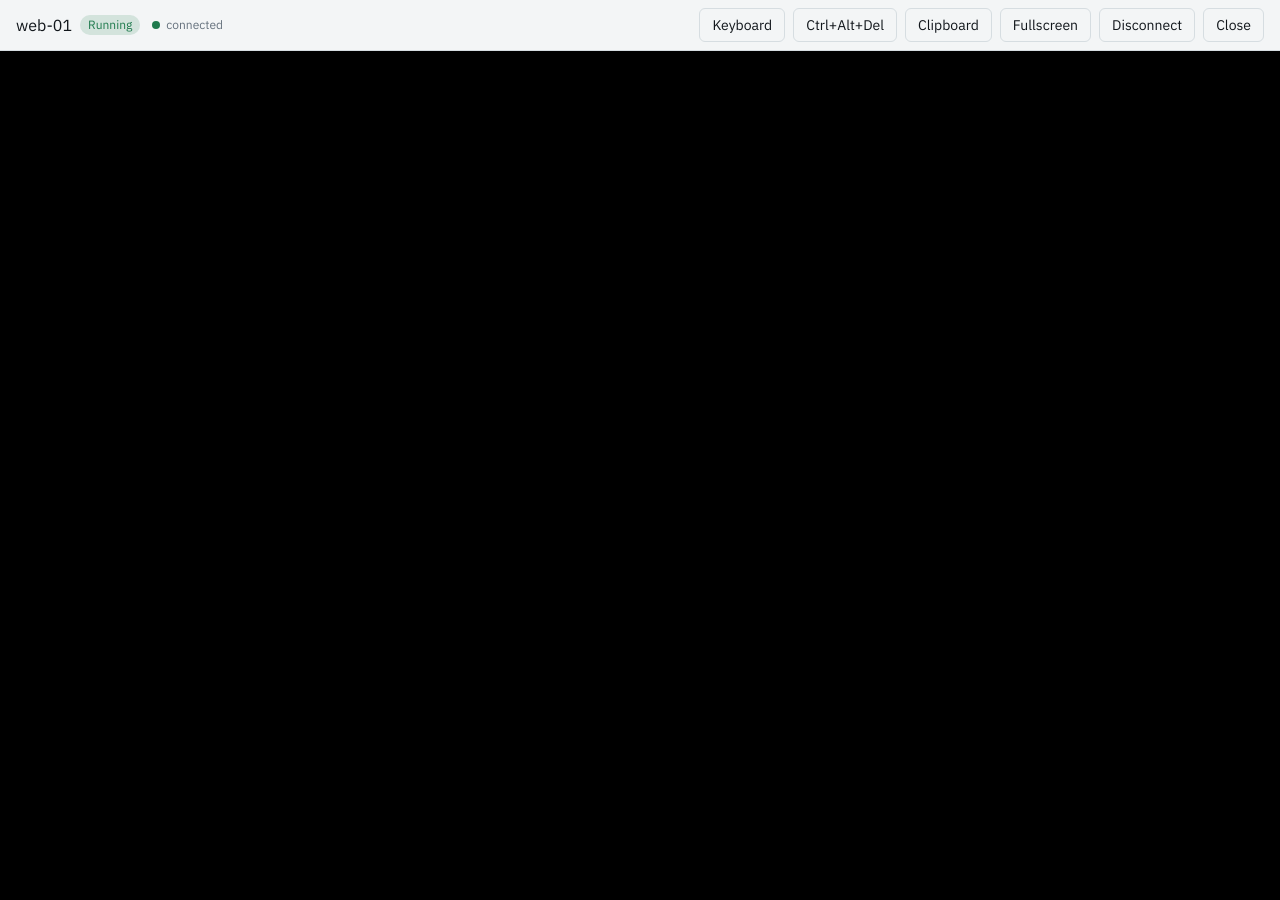
it: console clipboard › falls back to selecting the text when the clipboard is refused
The image size is (1280, 900).
Click the button "Clipboard".
click(948, 25)  # box [905,8,992,42]
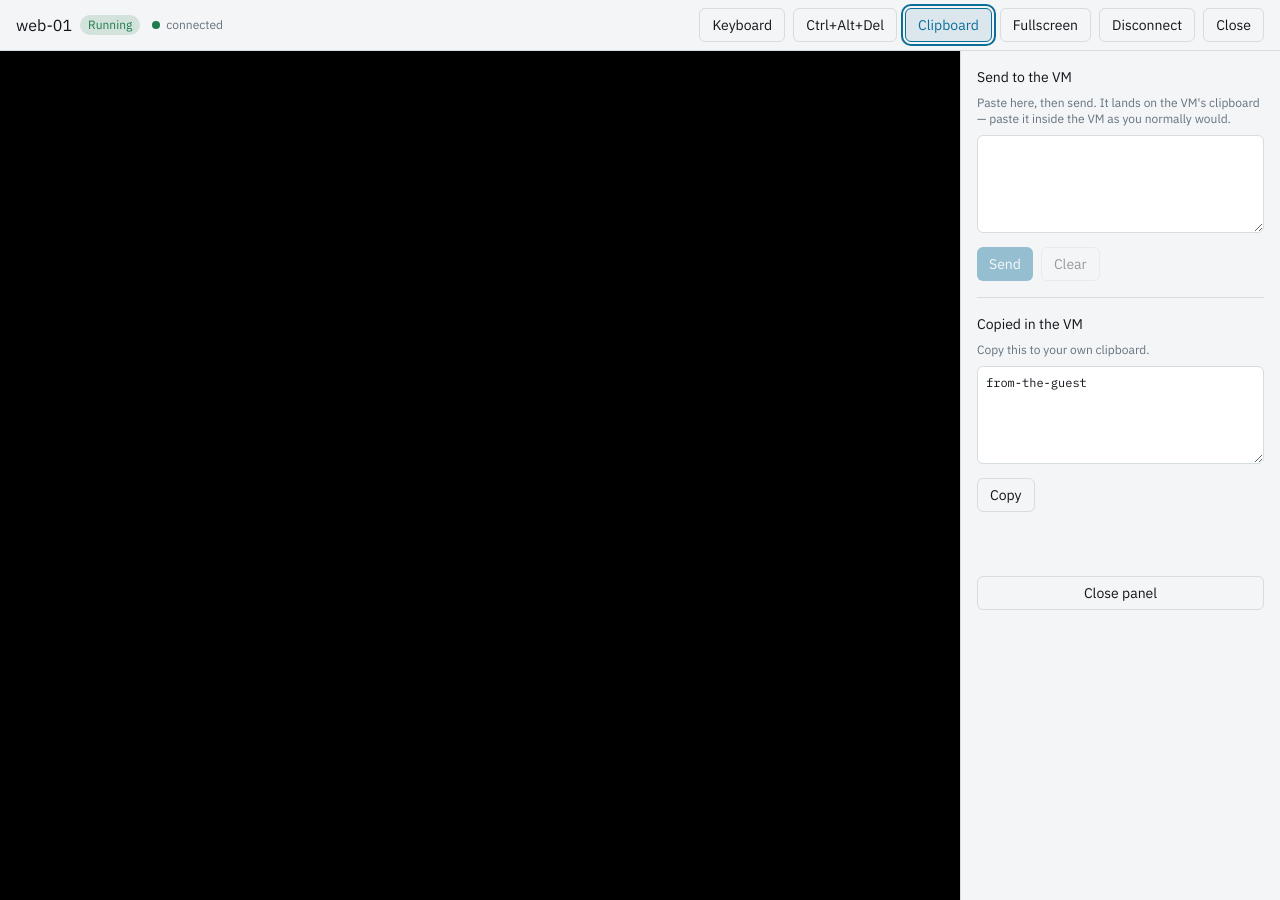
Click the button "Copy".
click(1006, 495)  # box [977,478,1035,512]
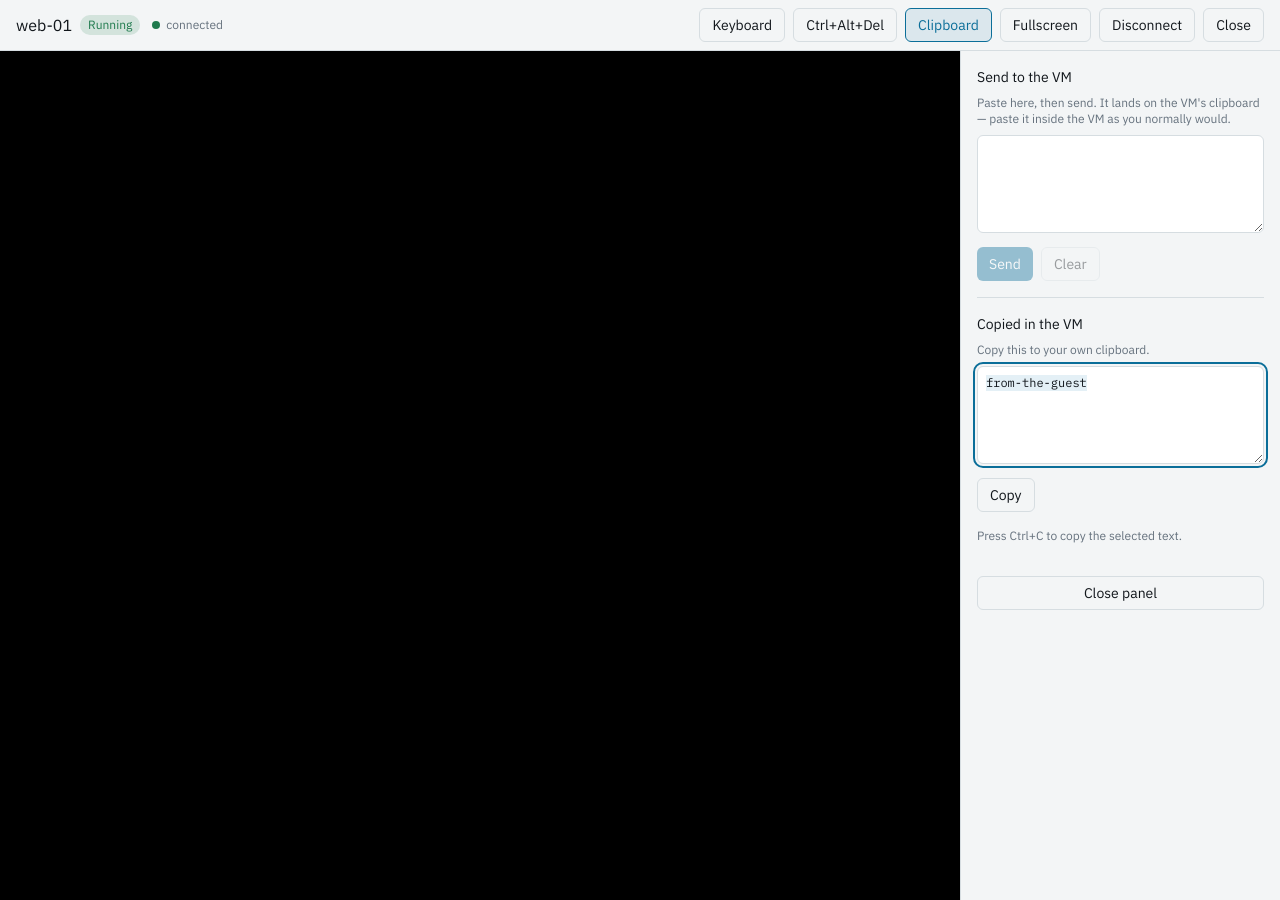
Now the text "Press Ctrl+C to copy the selected text." is shown, box [977,528,1182,543]
